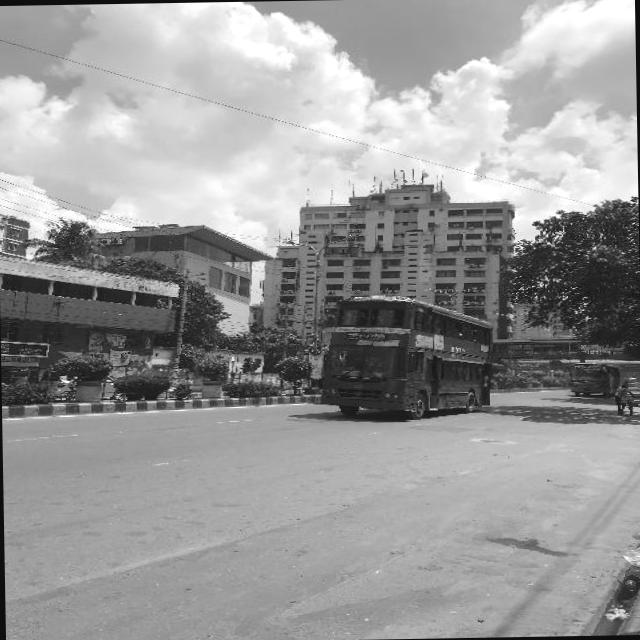bus: (314, 291, 494, 420), (566, 360, 619, 398)
